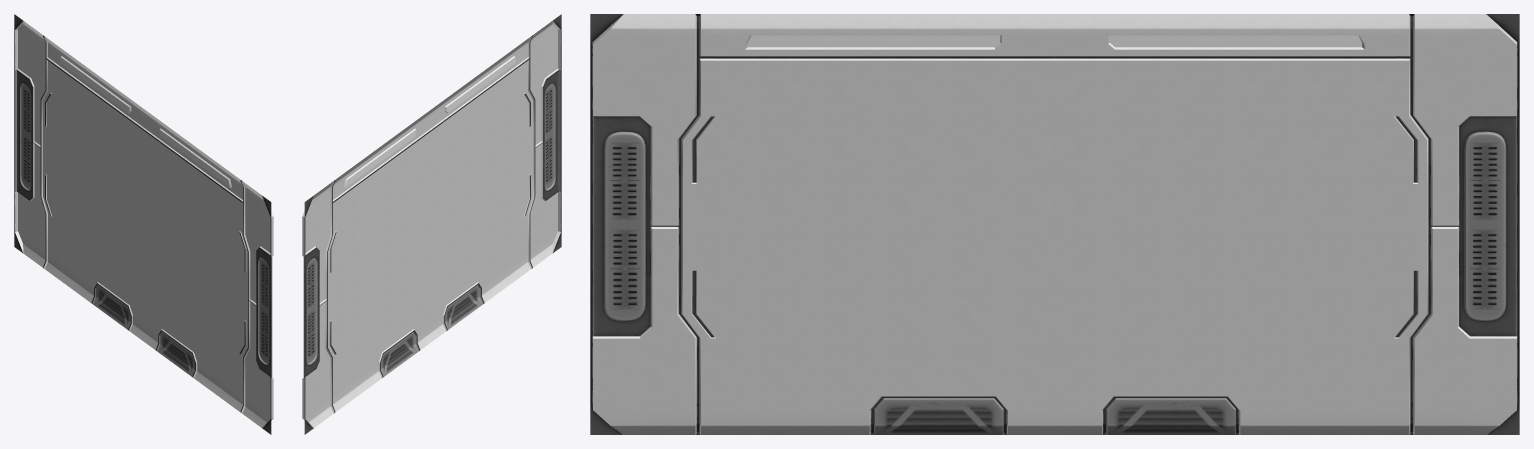
File: SM_MWall03-700x350-1.FBX
3 renders of one model, left to right at view 1: azimuth 30°, elevation 25°; view 2: azimuth 150°, elevation 25°; view 3: azimuth 270°, elevation 25°, orthographic. The views are drawn at different scales.
Parts seen in each view (by area): view 1: SM_MWall03-700x350-1; view 2: SM_MWall03-700x350-1; view 3: SM_MWall03-700x350-1.
Boxes of the visible parts, left/top/right/bottom form: SM_MWall03-700x350-1: left=14, top=14, right=273, bottom=434; SM_MWall03-700x350-1: left=302, top=14, right=561, bottom=434; SM_MWall03-700x350-1: left=590, top=14, right=1519, bottom=434.
Size of what is drawn, in the model's own units: 5.91 by 700 by 350.
